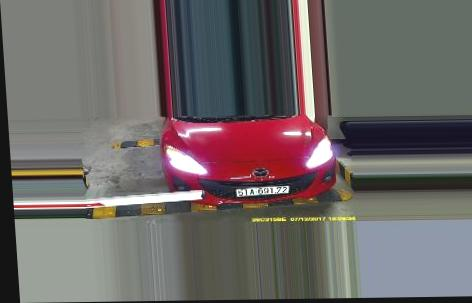License_Plate: (235, 186, 292, 196)
